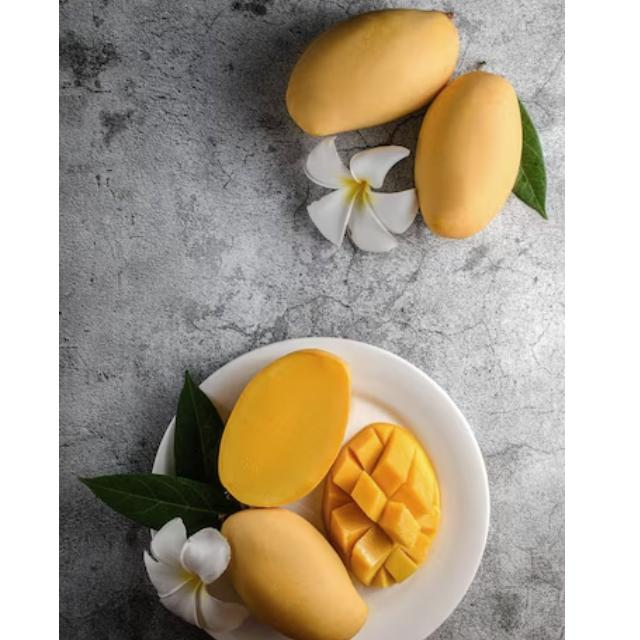mango: (287, 8, 458, 136), (214, 502, 369, 640), (414, 64, 526, 240)
